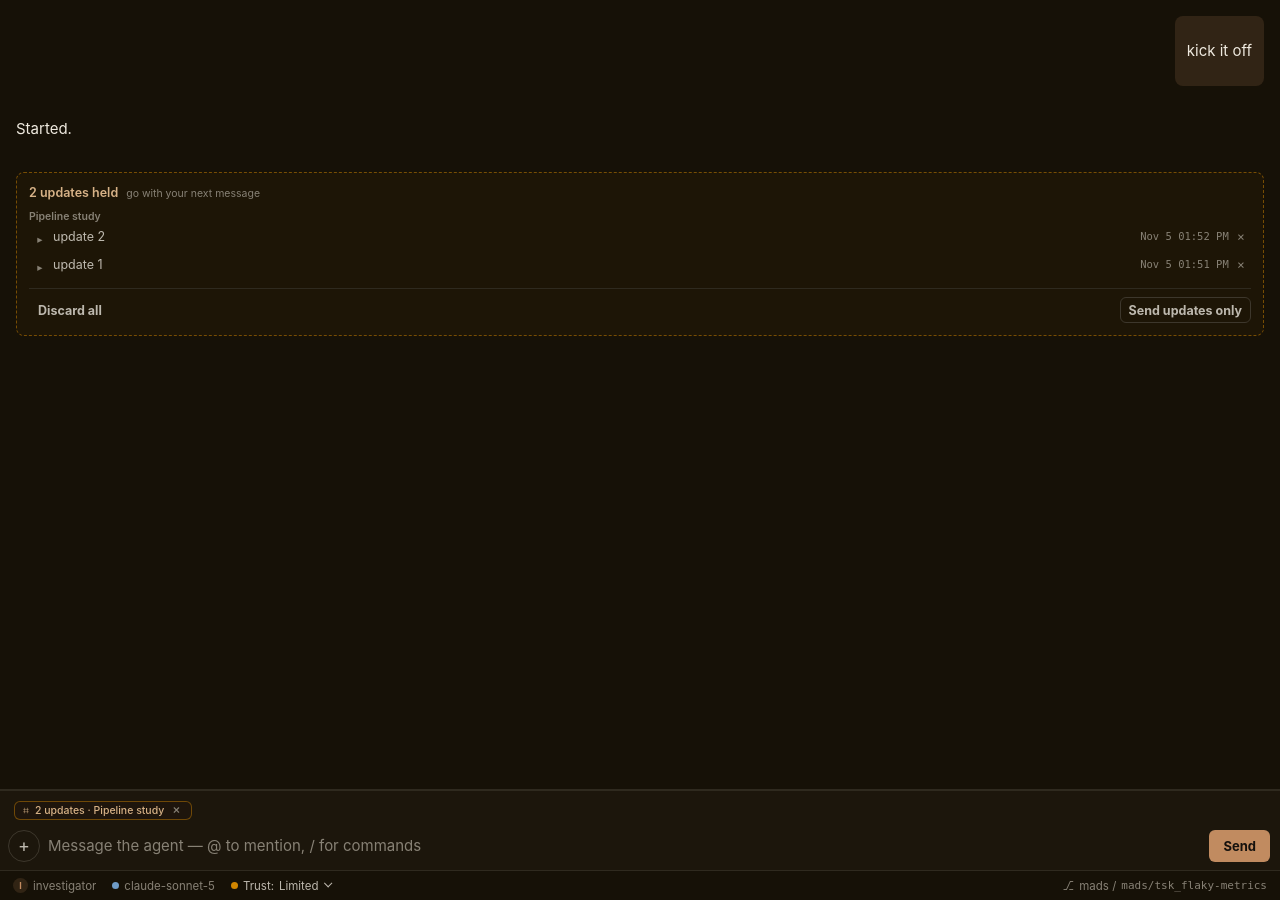
Scenario: ConversationTab — held updates › discards a row with an Undo toast that brings it back
Click the button named "Discard update from Pipeline study": (1241, 237) [1237,229,1245,245]
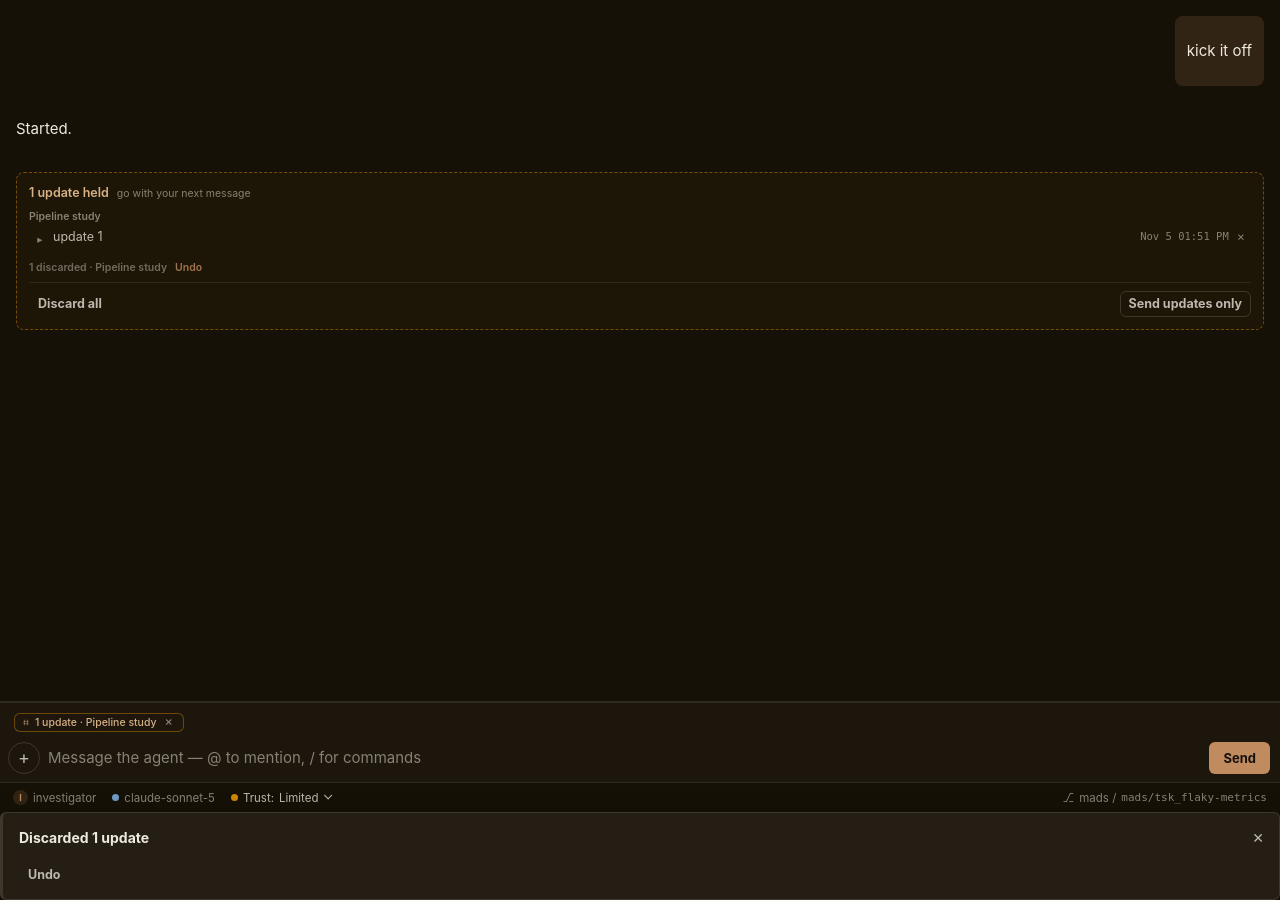
Check: the text "1 update held" is shown, box [29,185,109,200]
Check: the text "1 discarded · Pipeline study" is shown, box [29,260,167,274]
Check: the text "Discarded 1 update" is shown, box [19,829,149,846]
Click the button "Undo" below "Discarded 1 update": (44, 874) [19,861,70,887]
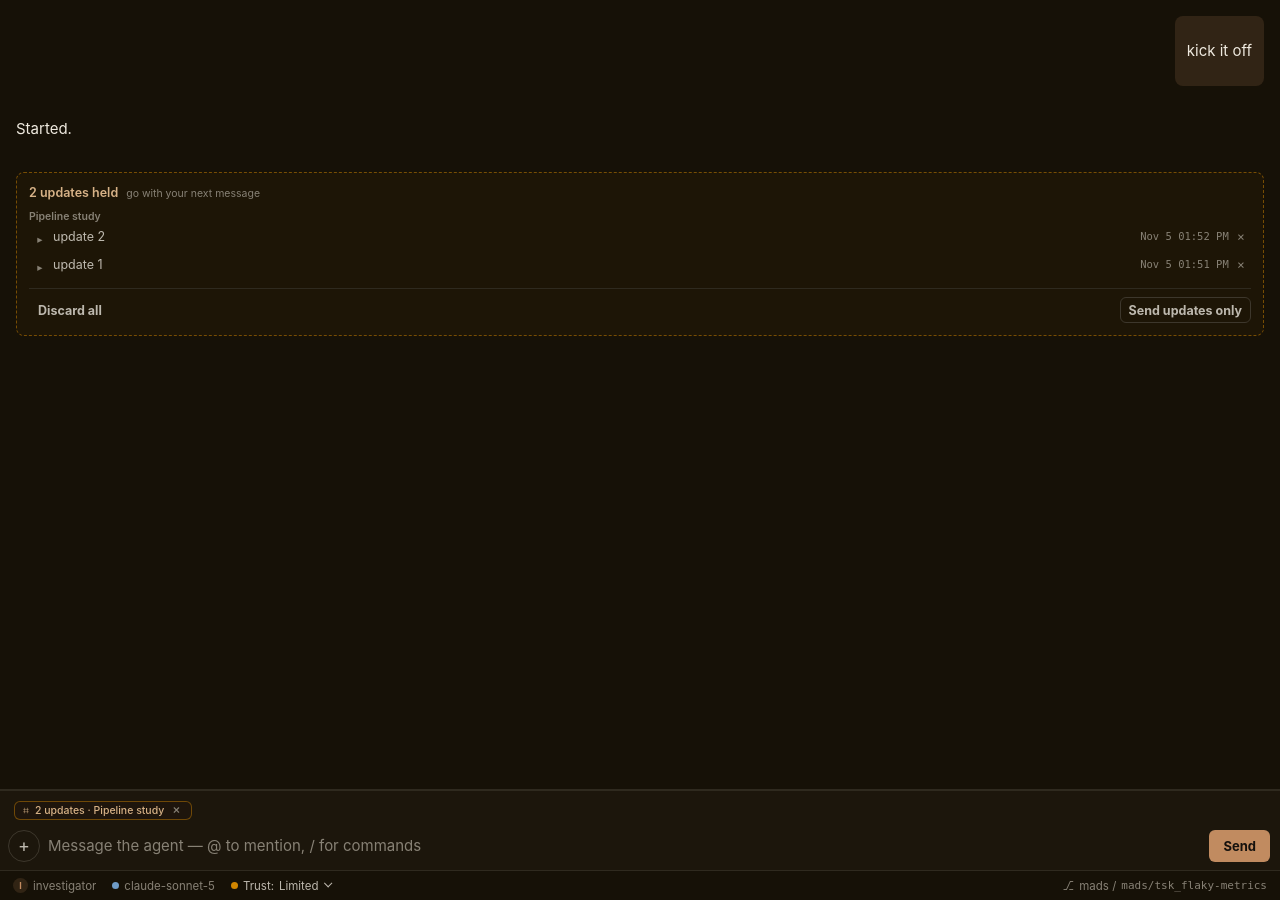
Check: the text "2 updates held" is shown, box [29,185,118,200]
Check: the text "discarded" is gone
